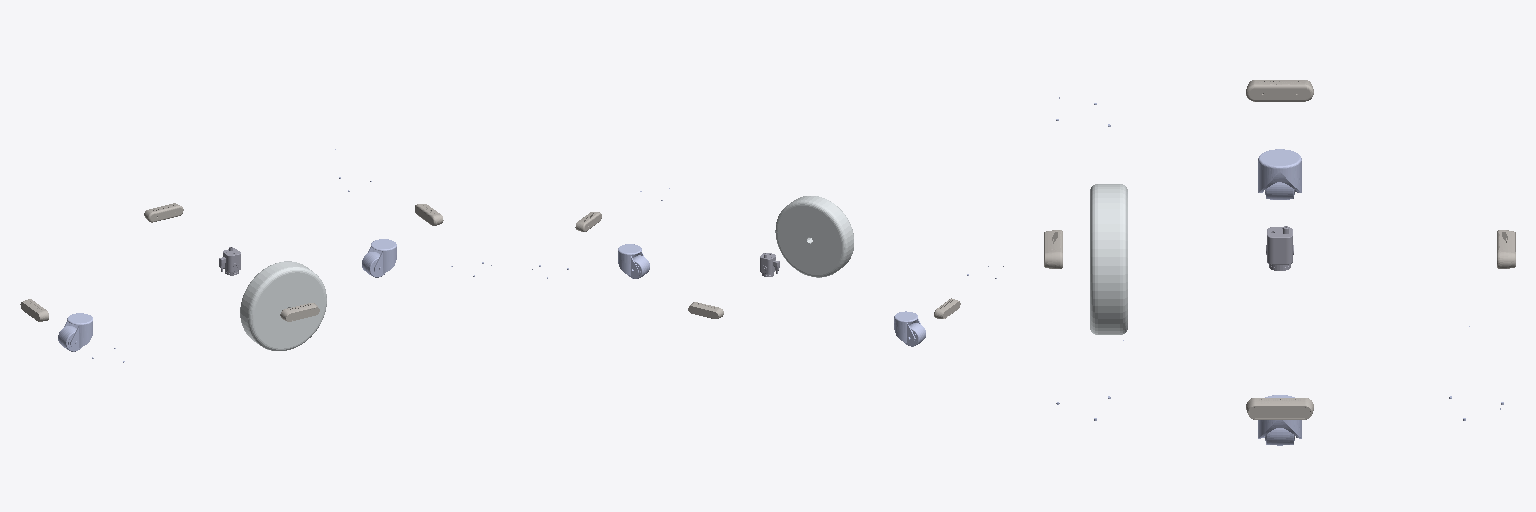
URDF robot description (imr100_robot):
<?xml version="1.0" encoding="utf-8"?>
<!-- This URDF was automatically created by SolidWorks to URDF Exporter! Originally created by [author] ([email redacted]) 
     Commit Version: 1.5.1-0-g916b5db  Build Version: 1.5.7152.31018
     For more information, please see http://wiki.ros.org/sw_urdf_exporter -->
<robot
  name="imr100_robot">
  <link
    name="base_link">
    <inertial>
      <origin
        xyz="-0.012967 0.0031255 0.34392"
        rpy="0 0 0" />
      <mass
        value="216.84" />
      <inertia
        ixx="54.74"
        ixy="-0.20377"
        ixz="-0.93282"
        iyy="64.003"
        iyz="0.19915"
        izz="19.729" />
    </inertial>
    <visual>
      <origin
        xyz="0 0 0"
        rpy="0 0 0" />
      <geometry>
        <mesh
          filename="package://imr100_robot/meshes/base_link.STL" />
      </geometry>
      <material
        name="">
        <color
          rgba="0.75294 0.75294 0.75294 1" />
      </material>
    </visual>
    <collision>
      <origin
        xyz="0 0 0"
        rpy="0 0 0" />
      <geometry>
        <mesh
          filename="package://imr100_robot/meshes/base_link.STL" />
      </geometry>
    </collision>
  </link>
  <link
    name="left_wheel_link">
    <inertial>
      <origin
        xyz="3.5574E-18 -2.7756E-17 0"
        rpy="0 0 0" />
      <mass
        value="4.1393" />
      <inertia
        ixx="0.011102"
        ixy="-9.4134E-35"
        ixz="8.4489E-39"
        iyy="0.020523"
        iyz="-1.507E-35"
        izz="0.011102" />
    </inertial>
    <visual>
      <origin
        xyz="0 0 0"
        rpy="0 0 0" />
      <geometry>
        <mesh
          filename="package://imr100_robot/meshes/left_wheel_link.STL" />
      </geometry>
      <material
        name="">
        <color
          rgba="0.89804 0.91765 0.92941 1" />
      </material>
    </visual>
    <collision>
      <origin
        xyz="0 0 0"
        rpy="0 0 0" />
      <geometry>
        <mesh
          filename="package://imr100_robot/meshes/left_wheel_link.STL" />
      </geometry>
    </collision>
  </link>
  <joint
    name="left_wheel_joint"
    type="continuous">
    <origin
      xyz="-4.40012257148797E-05 0.226499995726031 0"
      rpy="0 0 0.000194265898410156" />
    <parent
      link="base_link" />
    <child
      link="left_wheel_link" />
    <axis
      xyz="0 1 0" />
    <limit
      effort="60"
      velocity="15" />
  </joint>
  <link
    name="right_wheel_link">
    <inertial>
      <origin
        xyz="2.1665E-18 -2.7756E-17 1.3878E-17"
        rpy="0 0 0" />
      <mass
        value="4.1393" />
      <inertia
        ixx="0.011102"
        ixy="-6.2827E-35"
        ixz="2.5746E-35"
        iyy="0.020523"
        iyz="-1.7456E-34"
        izz="0.011102" />
    </inertial>
    <visual>
      <origin
        xyz="0 0 0"
        rpy="0 0 0" />
      <geometry>
        <mesh
          filename="package://imr100_robot/meshes/right_wheel_link.STL" />
      </geometry>
      <material
        name="">
        <color
          rgba="0.89804 0.91765 0.92941 1" />
      </material>
    </visual>
    <collision>
      <origin
        xyz="0 0 0"
        rpy="0 0 0" />
      <geometry>
        <mesh
          filename="package://imr100_robot/meshes/right_wheel_link.STL" />
      </geometry>
    </collision>
  </link>
  <joint
    name="right_wheel_joint"
    type="continuous">
    <origin
      xyz="4.40012257229637E-05 -0.226499995726031 0"
      rpy="0 0 0.000194265898410156" />
    <parent
      link="base_link" />
    <child
      link="right_wheel_link" />
    <axis
      xyz="0 1 0" />
    <limit
      effort="60"
      velocity="15" />
  </joint>
  <link
    name="front_caster_link">
    <inertial>
      <origin
        xyz="-0.0013294 5.854E-05 -0.029721"
        rpy="0 0 0" />
      <mass
        value="0.027339" />
      <inertia
        ixx="2.0014E-05"
        ixy="3.266E-08"
        ixz="-2.9919E-06"
        iyy="1.5684E-05"
        iyz="3.8577E-08"
        izz="1.9422E-05" />
    </inertial>
    <visual>
      <origin
        xyz="0 0 0"
        rpy="0 0 0" />
      <geometry>
        <mesh
          filename="package://imr100_robot/meshes/front_caster_link.STL" />
      </geometry>
      <material
        name="">
        <color
          rgba="0.79216 0.81961 0.93333 1" />
      </material>
    </visual>
    <collision>
      <origin
        xyz="0 0 0"
        rpy="0 0 0" />
      <geometry>
        <mesh
          filename="package://imr100_robot/meshes/front_caster_link.STL" />
      </geometry>
    </collision>
  </link>
  <joint
    name="front_caster_joint"
    type="continuous">
    <origin
      xyz="0.384999992735196 7.47923704174756E-05 -0.021"
      rpy="0 0 0.000194265898413648" />
    <parent
      link="base_link" />
    <child
      link="front_caster_link" />
    <axis
      xyz="0 0 1" />
  </joint>
  <link
    name="front_wheel_link">
    <inertial>
      <origin
        xyz="4.84380379139893E-08 5.58761678059031E-06 2.11140133155041E-12"
        rpy="0 0 0" />
      <mass
        value="0.0736834010560834" />
      <inertia
        ixx="2.00646661874418E-05"
        ixy="1.90742704730574E-14"
        ixz="-1.41205388719093E-15"
        iyy="2.22295933517578E-05"
        iyz="3.35844637474125E-11"
        izz="2.0065225977915E-05" />
    </inertial>
    <visual>
      <origin
        xyz="0 0 0"
        rpy="0 0 0" />
      <geometry>
        <mesh
          filename="package://imr100_robot/meshes/front_wheel_link.STL" />
      </geometry>
      <material
        name="">
        <color
          rgba="0.792156862745098 0.819607843137255 0.933333333333333 1" />
      </material>
    </visual>
    <collision>
      <origin
        xyz="0 0 0"
        rpy="0 0 0" />
      <geometry>
        <mesh
          filename="package://imr100_robot/meshes/front_wheel_link.STL" />
      </geometry>
    </collision>
  </link>
  <joint
    name="front_wheel_joint"
    type="continuous">
    <origin
      xyz="-0.0219999999999997 0 -0.0539999999999956"
      rpy="0 0 0" />
    <parent
      link="front_caster_link" />
    <child
      link="front_wheel_link" />
    <axis
      xyz="0 1 0" />
  </joint>
  <link
    name="rear_caster_link">
    <inertial>
      <origin
        xyz="-0.00132938529302762 5.85398412123003E-05 -0.0297207542141465"
        rpy="0 0 0" />
      <mass
        value="0.0273389520218105" />
      <inertia
        ixx="2.00137421629653E-05"
        ixy="3.2659681036821E-08"
        ixz="-2.99192394304204E-06"
        iyy="1.56840340417949E-05"
        iyz="3.85774560410926E-08"
        izz="1.94219351877898E-05" />
    </inertial>
    <visual>
      <origin
        xyz="0 0 0"
        rpy="0 0 0" />
      <geometry>
        <mesh
          filename="package://imr100_robot/meshes/rear_caster_link.STL" />
      </geometry>
      <material
        name="">
        <color
          rgba="0.792156862745098 0.819607843137255 0.933333333333333 1" />
      </material>
    </visual>
    <collision>
      <origin
        xyz="0 0 0"
        rpy="0 0 0" />
      <geometry>
        <mesh
          filename="package://imr100_robot/meshes/rear_caster_link.STL" />
      </geometry>
    </collision>
  </link>
  <joint
    name="rear_caster_joint"
    type="continuous">
    <origin
      xyz="-0.384999992735196 -7.47923704174755E-05 -0.021"
      rpy="0 0 0.000194265898410156" />
    <parent
      link="base_link" />
    <child
      link="rear_caster_link" />
    <axis
      xyz="0 0 1" />
  </joint>
  <link
    name="rear_wheel_link">
    <inertial>
      <origin
        xyz="4.84380379695004E-08 5.58761678065E-06 2.11150888440592E-12"
        rpy="0 0 0" />
      <mass
        value="0.0736834010560833" />
      <inertia
        ixx="2.00646661874418E-05"
        ixy="1.90742677249479E-14"
        ixz="-1.41205358129547E-15"
        iyy="2.22295933517577E-05"
        iyz="3.35844637314466E-11"
        izz="2.0065225977915E-05" />
    </inertial>
    <visual>
      <origin
        xyz="0 0 0"
        rpy="0 0 0" />
      <geometry>
        <mesh
          filename="package://imr100_robot/meshes/rear_wheel_link.STL" />
      </geometry>
      <material
        name="">
        <color
          rgba="0.792156862745098 0.819607843137255 0.933333333333333 1" />
      </material>
    </visual>
    <collision>
      <origin
        xyz="0 0 0"
        rpy="0 0 0" />
      <geometry>
        <mesh
          filename="package://imr100_robot/meshes/rear_wheel_link.STL" />
      </geometry>
    </collision>
  </link>
  <joint
    name="rear_wheel_joint"
    type="continuous">
    <origin
      xyz="-0.022000000000001 0 -0.0540000000000047"
      rpy="0 0 0" />
    <parent
      link="rear_caster_link" />
    <child
      link="rear_wheel_link" />
    <axis
      xyz="0 1 0" />
  </joint>
  <link
    name="qr_camera_link">
    <inertial>
      <origin
        xyz="-0.0184359218795166 8.06302884881959E-05 -0.00118822064330295"
        rpy="0 0 0" />
      <mass
        value="0.0501926185202318" />
      <inertia
        ixx="9.88585510203914E-06"
        ixy="9.53035917056781E-08"
        ixz="-4.2534538924444E-08"
        iyy="1.36532369503079E-05"
        iyz="-1.06409363468814E-08"
        izz="1.23602058055E-05" />
    </inertial>
    <visual>
      <origin
        xyz="0 0 0"
        rpy="0 0 0" />
      <geometry>
        <mesh
          filename="package://imr100_robot/meshes/qr_camera_link.STL" />
      </geometry>
      <material
        name="">
        <color
          rgba="0.67843137254902 0.67843137254902 0.729411764705882 1" />
      </material>
    </visual>
    <collision>
      <origin
        xyz="0 0 0"
        rpy="0 0 0" />
      <geometry>
        <mesh
          filename="package://imr100_robot/meshes/qr_camera_link.STL" />
      </geometry>
    </collision>
  </link>
  <joint
    name="qr_camera_joint"
    type="fixed">
    <origin
      xyz="0 0 0"
      rpy="0.000194265898726123 1.5707963267949 0" />
    <parent
      link="base_link" />
    <child
      link="qr_camera_link" />
    <axis
      xyz="0 0 0" />
  </joint>
  <link
    name="front_left_laser_link">
    <inertial>
      <origin
        xyz="-4.43017602740348E-05 -7.74281347748484E-05 -0.0204571731991457"
        rpy="0 0 0" />
      <mass
        value="8.48763266002905E-05" />
      <inertia
        ixx="7.47144124845311E-08"
        ixy="-5.28533298338074E-10"
        ixz="-1.61228763805579E-09"
        iyy="7.49486375052518E-08"
        iyz="-1.39292418228198E-09"
        izz="1.41096216715449E-07" />
    </inertial>
    <visual>
      <origin
        xyz="0 0 0"
        rpy="0 0 0" />
      <geometry>
        <mesh
          filename="package://imr100_robot/meshes/front_left_laser_link.STL" />
      </geometry>
      <material
        name="">
        <color
          rgba="0.792156862745098 0.819607843137255 0.933333333333333 1" />
      </material>
    </visual>
    <collision>
      <origin
        xyz="0 0 0"
        rpy="0 0 0" />
      <geometry>
        <mesh
          filename="package://imr100_robot/meshes/front_left_laser_link.STL" />
      </geometry>
    </collision>
  </link>
  <joint
    name="front_left_laser_joint"
    type="fixed">
    <origin
      xyz="0.454950453610541 0.255088386171468 -0.023001139187633"
      rpy="-3.14159265358979 0 0.78542273605415" />
    <parent
      link="base_link" />
    <child
      link="front_left_laser_link" />
    <axis
      xyz="0 0 0" />
  </joint>
  <link
    name="front_right_laser_link">
    <inertial>
      <origin
        xyz="-0.000159728329071296 -0.000247819765814755 -0.0204571731991457"
        rpy="0 0 0" />
      <mass
        value="8.48763266002905E-05" />
      <inertia
        ixx="7.47144124845315E-08"
        ixy="-5.28533298338081E-10"
        ixz="-1.61228763805581E-09"
        iyy="7.49486375052519E-08"
        iyz="-1.39292418228198E-09"
        izz="1.41096216715449E-07" />
    </inertial>
    <visual>
      <origin
        xyz="0 0 0"
        rpy="0 0 0" />
      <geometry>
        <mesh
          filename="package://imr100_robot/meshes/front_right_laser_link.STL" />
      </geometry>
      <material
        name="">
        <color
          rgba="0.792156862745098 0.819607843137255 0.933333333333333 1" />
      </material>
    </visual>
    <collision>
      <origin
        xyz="0 0 0"
        rpy="0 0 0" />
      <geometry>
        <mesh
          filename="package://imr100_robot/meshes/front_right_laser_link.STL" />
      </geometry>
    </collision>
  </link>
  <joint
    name="front_right_laser_joint"
    type="fixed">
    <origin
      xyz="0.455049529218107 -0.254911604205026 -0.023001139187633"
      rpy="-3.14159265358979 0 -0.78503420425733" />
    <parent
      link="base_link" />
    <child
      link="front_right_laser_link" />
    <axis
      xyz="0 0 0" />
  </joint>
  <link
    name="rear_left_laser_linik">
    <inertial>
      <origin
        xyz="-0.000159728333104292 -0.000247819770864494 -0.0204571731991373"
        rpy="0 0 0" />
      <mass
        value="8.48763266002905E-05" />
      <inertia
        ixx="7.47144124845311E-08"
        ixy="-5.28533298338101E-10"
        ixz="-1.61228763805601E-09"
        iyy="7.49486375052519E-08"
        iyz="-1.39292418228199E-09"
        izz="1.41096216715449E-07" />
    </inertial>
    <visual>
      <origin
        xyz="0 0 0"
        rpy="0 0 0" />
      <geometry>
        <mesh
          filename="package://imr100_robot/meshes/rear_left_laser_linik.STL" />
      </geometry>
      <material
        name="">
        <color
          rgba="0.792156862745098 0.819607843137255 0.933333333333333 1" />
      </material>
    </visual>
    <collision>
      <origin
        xyz="0 0 0"
        rpy="0 0 0" />
      <geometry>
        <mesh
          filename="package://imr100_robot/meshes/rear_left_laser_linik.STL" />
      </geometry>
    </collision>
  </link>
  <joint
    name="rear_left_laser_joint"
    type="fixed">
    <origin
      xyz="-0.455049529218106 0.254911604205026 -0.0230011391876263"
      rpy="3.14159265358979 0 2.35655844933246" />
    <parent
      link="base_link" />
    <child
      link="rear_left_laser_linik" />
    <axis
      xyz="0 0 0" />
  </joint>
  <link
    name="rear_right_laser_link">
    <inertial>
      <origin
        xyz="-0.000159728333237852 -0.000102100230248675 -0.020457173199139"
        rpy="0 0 0" />
      <mass
        value="8.48763266002906E-05" />
      <inertia
        ixx="7.47144124845311E-08"
        ixy="-5.2853329833821E-10"
        ixz="-1.61228763805576E-09"
        iyy="7.49486375052522E-08"
        iyz="-1.39292418228196E-09"
        izz="1.41096216715449E-07" />
    </inertial>
    <visual>
      <origin
        xyz="0 0 0"
        rpy="0 0 0" />
      <geometry>
        <mesh
          filename="package://imr100_robot/meshes/rear_right_laser_link.STL" />
      </geometry>
      <material
        name="">
        <color
          rgba="0.792156862745098 0.819607843137255 0.933333333333333 1" />
      </material>
    </visual>
    <collision>
      <origin
        xyz="0 0 0"
        rpy="0 0 0" />
      <geometry>
        <mesh
          filename="package://imr100_robot/meshes/rear_right_laser_link.STL" />
      </geometry>
    </collision>
  </link>
  <joint
    name="rear_right_laser_axis"
    type="fixed">
    <origin
      xyz="-0.454950453610356 -0.255088386171839 -0.0230011391876263"
      rpy="3.14159265358979 0 -2.35616991753564" />
    <parent
      link="base_link" />
    <child
      link="rear_right_laser_link" />
    <axis
      xyz="0 0 0" />
  </joint>
  <link
    name="front_camera_link">
    <inertial>
      <origin
        xyz="0.00766980809090456 -4.77642122231038E-07 -4.81259467567247E-05"
        rpy="0 0 0" />
      <mass
        value="0.0481939068793065" />
      <inertia
        ixx="3.03039913400002E-05"
        ixy="-2.90600819174091E-10"
        ixz="3.71713061887905E-09"
        iyy="4.45116634556147E-06"
        iyz="1.09150333740657E-10"
        izz="3.05772914056623E-05" />
    </inertial>
    <visual>
      <origin
        xyz="0 0 0"
        rpy="0 0 0" />
      <geometry>
        <mesh
          filename="package://imr100_robot/meshes/front_camera_link.STL" />
      </geometry>
      <material
        name="">
        <color
          rgba="0.776470588235294 0.756862745098039 0.737254901960784 1" />
      </material>
    </visual>
    <collision>
      <origin
        xyz="0 0 0"
        rpy="0 0 0" />
      <geometry>
        <mesh
          filename="package://imr100_robot/meshes/front_camera_link.STL" />
      </geometry>
    </collision>
  </link>
  <joint
    name="front_camera_joint"
    type="fixed">
    <origin
      xyz="0.491499990725565 9.54816883377812E-05 0.0144999999999984"
      rpy="0 0 0.000194265898410438" />
    <parent
      link="base_link" />
    <child
      link="front_camera_link" />
    <axis
      xyz="0 0 0" />
  </joint>
  <link
    name="left_camera_link">
    <inertial>
      <origin
        xyz="0.00766980809090462 -4.77642129658763E-07 -4.81259467567247E-05"
        rpy="0 0 0" />
      <mass
        value="0.0481939068793067" />
      <inertia
        ixx="3.03039913400005E-05"
        ixy="-2.9060081910247E-10"
        ixz="3.71713061887186E-09"
        iyy="4.45116634556152E-06"
        iyz="1.09150333738776E-10"
        izz="3.05772914056626E-05" />
    </inertial>
    <visual>
      <origin
        xyz="0 0 0"
        rpy="0 0 0" />
      <geometry>
        <mesh
          filename="package://imr100_robot/meshes/left_camera_link.STL" />
      </geometry>
      <material
        name="">
        <color
          rgba="0.776470588235294 0.756862745098039 0.737254901960784 1" />
      </material>
    </visual>
    <collision>
      <origin
        xyz="0 0 0"
        rpy="0 0 0" />
      <geometry>
        <mesh
          filename="package://imr100_robot/meshes/left_camera_link.STL" />
      </geometry>
    </collision>
  </link>
  <joint
    name="left_camera_joint"
    type="fixed">
    <origin
      xyz="-5.66285078399019E-05 0.291499994499509 0.0144999999999971"
      rpy="0 0 1.57099059269328" />
    <parent
      link="base_link" />
    <child
      link="left_camera_link" />
    <axis
      xyz="0 0 0" />
  </joint>
  <link
    name="rear_camera_link">
    <inertial>
      <origin
        xyz="0.00766980809090473 -4.7764212138239E-07 -4.81259467566969E-05"
        rpy="0 0 0" />
      <mass
        value="0.0481939068793062" />
      <inertia
        ixx="3.03039913400001E-05"
        ixy="-2.90600819149368E-10"
        ixz="3.71713061889174E-09"
        iyy="4.45116634556144E-06"
        iyz="1.09150333709356E-10"
        izz="3.05772914056622E-05" />
    </inertial>
    <visual>
      <origin
        xyz="0 0 0"
        rpy="0 0 0" />
      <geometry>
        <mesh
          filename="package://imr100_robot/meshes/rear_camera_link.STL" />
      </geometry>
      <material
        name="">
        <color
          rgba="0.776470588235294 0.756862745098039 0.737254901960784 1" />
      </material>
    </visual>
    <collision>
      <origin
        xyz="0 0 0"
        rpy="0 0 0" />
      <geometry>
        <mesh
          filename="package://imr100_robot/meshes/rear_camera_link.STL" />
      </geometry>
    </collision>
  </link>
  <joint
    name="rear_camera_joint"
    type="fixed">
    <origin
      xyz="-0.4914999907256 -9.54816884680137E-05 0.0144999999999984"
      rpy="0 0 -3.14139838769138" />
    <parent
      link="base_link" />
    <child
      link="rear_camera_link" />
    <axis
      xyz="0 0 0" />
  </joint>
  <link
    name="right_camera_link">
    <inertial>
      <origin
        xyz="0.00766980809090456 -4.77642123119414E-07 -4.81259467567108E-05"
        rpy="0 0 0" />
      <mass
        value="0.0481939068793066" />
      <inertia
        ixx="3.03039913400004E-05"
        ixy="-2.90600819123746E-10"
        ixz="3.71713061888095E-09"
        iyy="4.45116634556151E-06"
        iyz="1.09150333729683E-10"
        izz="3.05772914056625E-05" />
    </inertial>
    <visual>
      <origin
        xyz="0 0 0"
        rpy="0 0 0" />
      <geometry>
        <mesh
          filename="package://imr100_robot/meshes/right_camera_link.STL" />
      </geometry>
      <material
        name="">
        <color
          rgba="0.776470588235294 0.756862745098039 0.737254901960784 1" />
      </material>
    </visual>
    <collision>
      <origin
        xyz="0 0 0"
        rpy="0 0 0" />
      <geometry>
        <mesh
          filename="package://imr100_robot/meshes/right_camera_link.STL" />
      </geometry>
    </collision>
  </link>
  <joint
    name="right_cameara_joint"
    type="fixed">
    <origin
      xyz="5.66285087732048E-05 -0.291499994499504 0.0144999999999991"
      rpy="0 0 -1.57060206089649" />
    <parent
      link="base_link" />
    <child
      link="right_camera_link" />
    <axis
      xyz="0 0 0" />
  </joint>
  <link
    name="top_laser_linki">
    <inertial>
      <origin
        xyz="-4.36961862929851E-05 -3.94310158518299E-07 -0.0218347476384633"
        rpy="0 0 0" />
      <mass
        value="0.0169417560649555" />
      <inertia
        ixx="9.8801998097031E-06"
        ixy="4.45100154993122E-10"
        ixz="-1.23666050635378E-08"
        iyy="9.87525859015645E-06"
        iyz="2.17245966087233E-10"
        izz="1.03223726968166E-05" />
    </inertial>
    <visual>
      <origin
        xyz="0 0 0"
        rpy="0 0 0" />
      <geometry>
        <mesh
          filename="package://imr100_robot/meshes/top_laser_linki.STL" />
      </geometry>
      <material
        name="">
        <color
          rgba="0.792156862745098 0.819607843137255 0.933333333333333 1" />
      </material>
    </visual>
    <collision>
      <origin
        xyz="0 0 0"
        rpy="0 0 0" />
      <geometry>
        <mesh
          filename="package://imr100_robot/meshes/top_laser_linki.STL" />
      </geometry>
    </collision>
  </link>
  <joint
    name="top_laser_joint"
    type="fixed">
    <origin
      xyz="0 0 1.94219284190001"
      rpy="0 0 0.000194265898424034" />
    <parent
      link="base_link" />
    <child
      link="top_laser_linki" />
    <axis
      xyz="0 0 0" />
  </joint>
</robot>

--- Render facts (derived) ---
Views: 3 orthographic renders of the robot side by side, from view 1: azimuth 30°, elevation 25°; view 2: azimuth 150°, elevation 25°; view 3: azimuth 270°, elevation 25°.
Model imr100_robot with 17 links and 16 joints (6 continuous, 10 fixed), rooted at base_link, posed all joints at 0.
Links seen in each view (by area): view 1: right_wheel_link, front_caster_link, rear_caster_link; view 2: right_wheel_link, rear_caster_link, front_caster_link; view 3: right_wheel_link, rear_caster_link, front_camera_link, rear_camera_link, qr_camera_link, left_camera_link, right_camera_link, front_caster_link.
Boxes of the visible links, bbox=[...] form: right_wheel_link: bbox=[240, 261, 326, 350]; front_caster_link: bbox=[368, 239, 396, 274]; rear_caster_link: bbox=[64, 313, 92, 348]; right_wheel_link: bbox=[775, 196, 853, 277]; rear_caster_link: bbox=[894, 311, 920, 343]; front_caster_link: bbox=[618, 244, 643, 276]; right_wheel_link: bbox=[1090, 184, 1127, 334]; rear_caster_link: bbox=[1258, 149, 1301, 192]; front_camera_link: bbox=[1246, 398, 1313, 419]; rear_camera_link: bbox=[1246, 80, 1313, 101]; qr_camera_link: bbox=[1266, 226, 1293, 270]; left_camera_link: bbox=[1497, 230, 1515, 268]; right_camera_link: bbox=[1044, 230, 1062, 268]; front_caster_link: bbox=[1258, 395, 1301, 438].
Bounding box of the posed robot: 1.02 × 0.624 × 0.1998 m (x, y, z).
Meshes: 17 distinct files referenced, 13 mesh visuals loaded (13 binary STL); not drawn: 4 (reference not matched to a file when rendering).